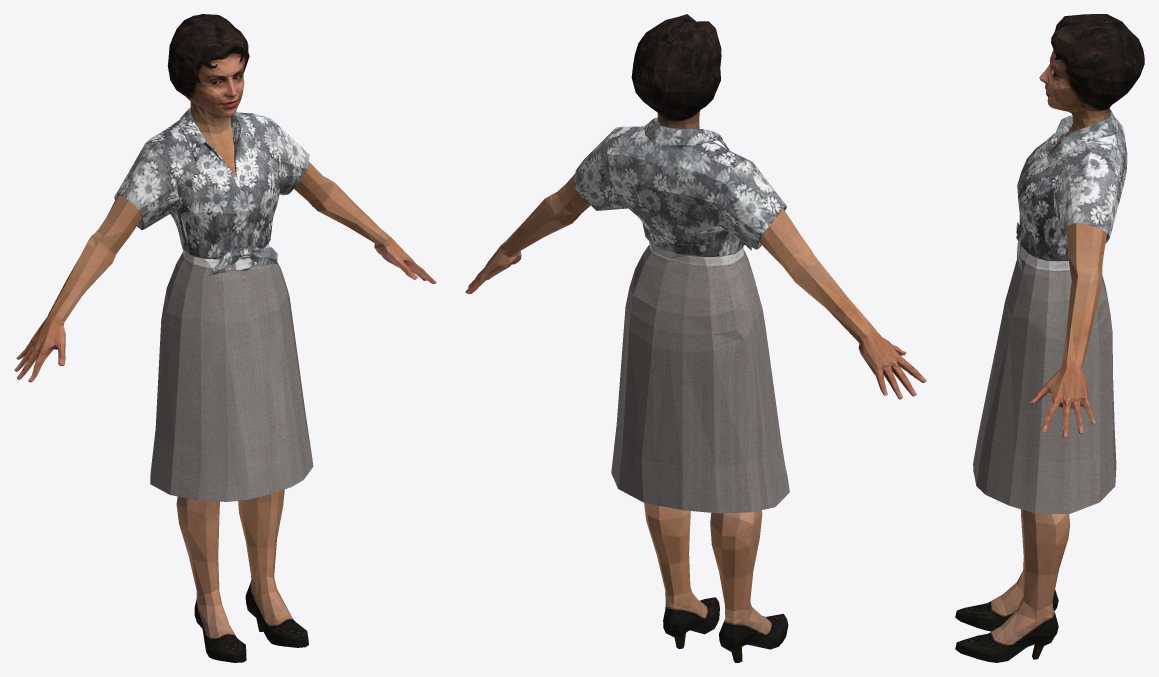
Rendered from npc_cmeszl.glb.
3 views of the same model, side by side, from view 1: azimuth 30°, elevation 25°; view 2: azimuth 150°, elevation 25°; view 3: azimuth 270°, elevation 25° (orthographic). The views are drawn at different scales.
Visible parts, largest first — view 1: npc; view 2: npc; view 3: npc.
Part boxes in pixels (bbox=[...]): npc: bbox=[14, 14, 436, 662]; npc: bbox=[465, 14, 926, 662]; npc: bbox=[955, 14, 1144, 662].
Size of the model in its own units: 0.7185 by 1 by 0.2748.
1 material, 1 textured.
